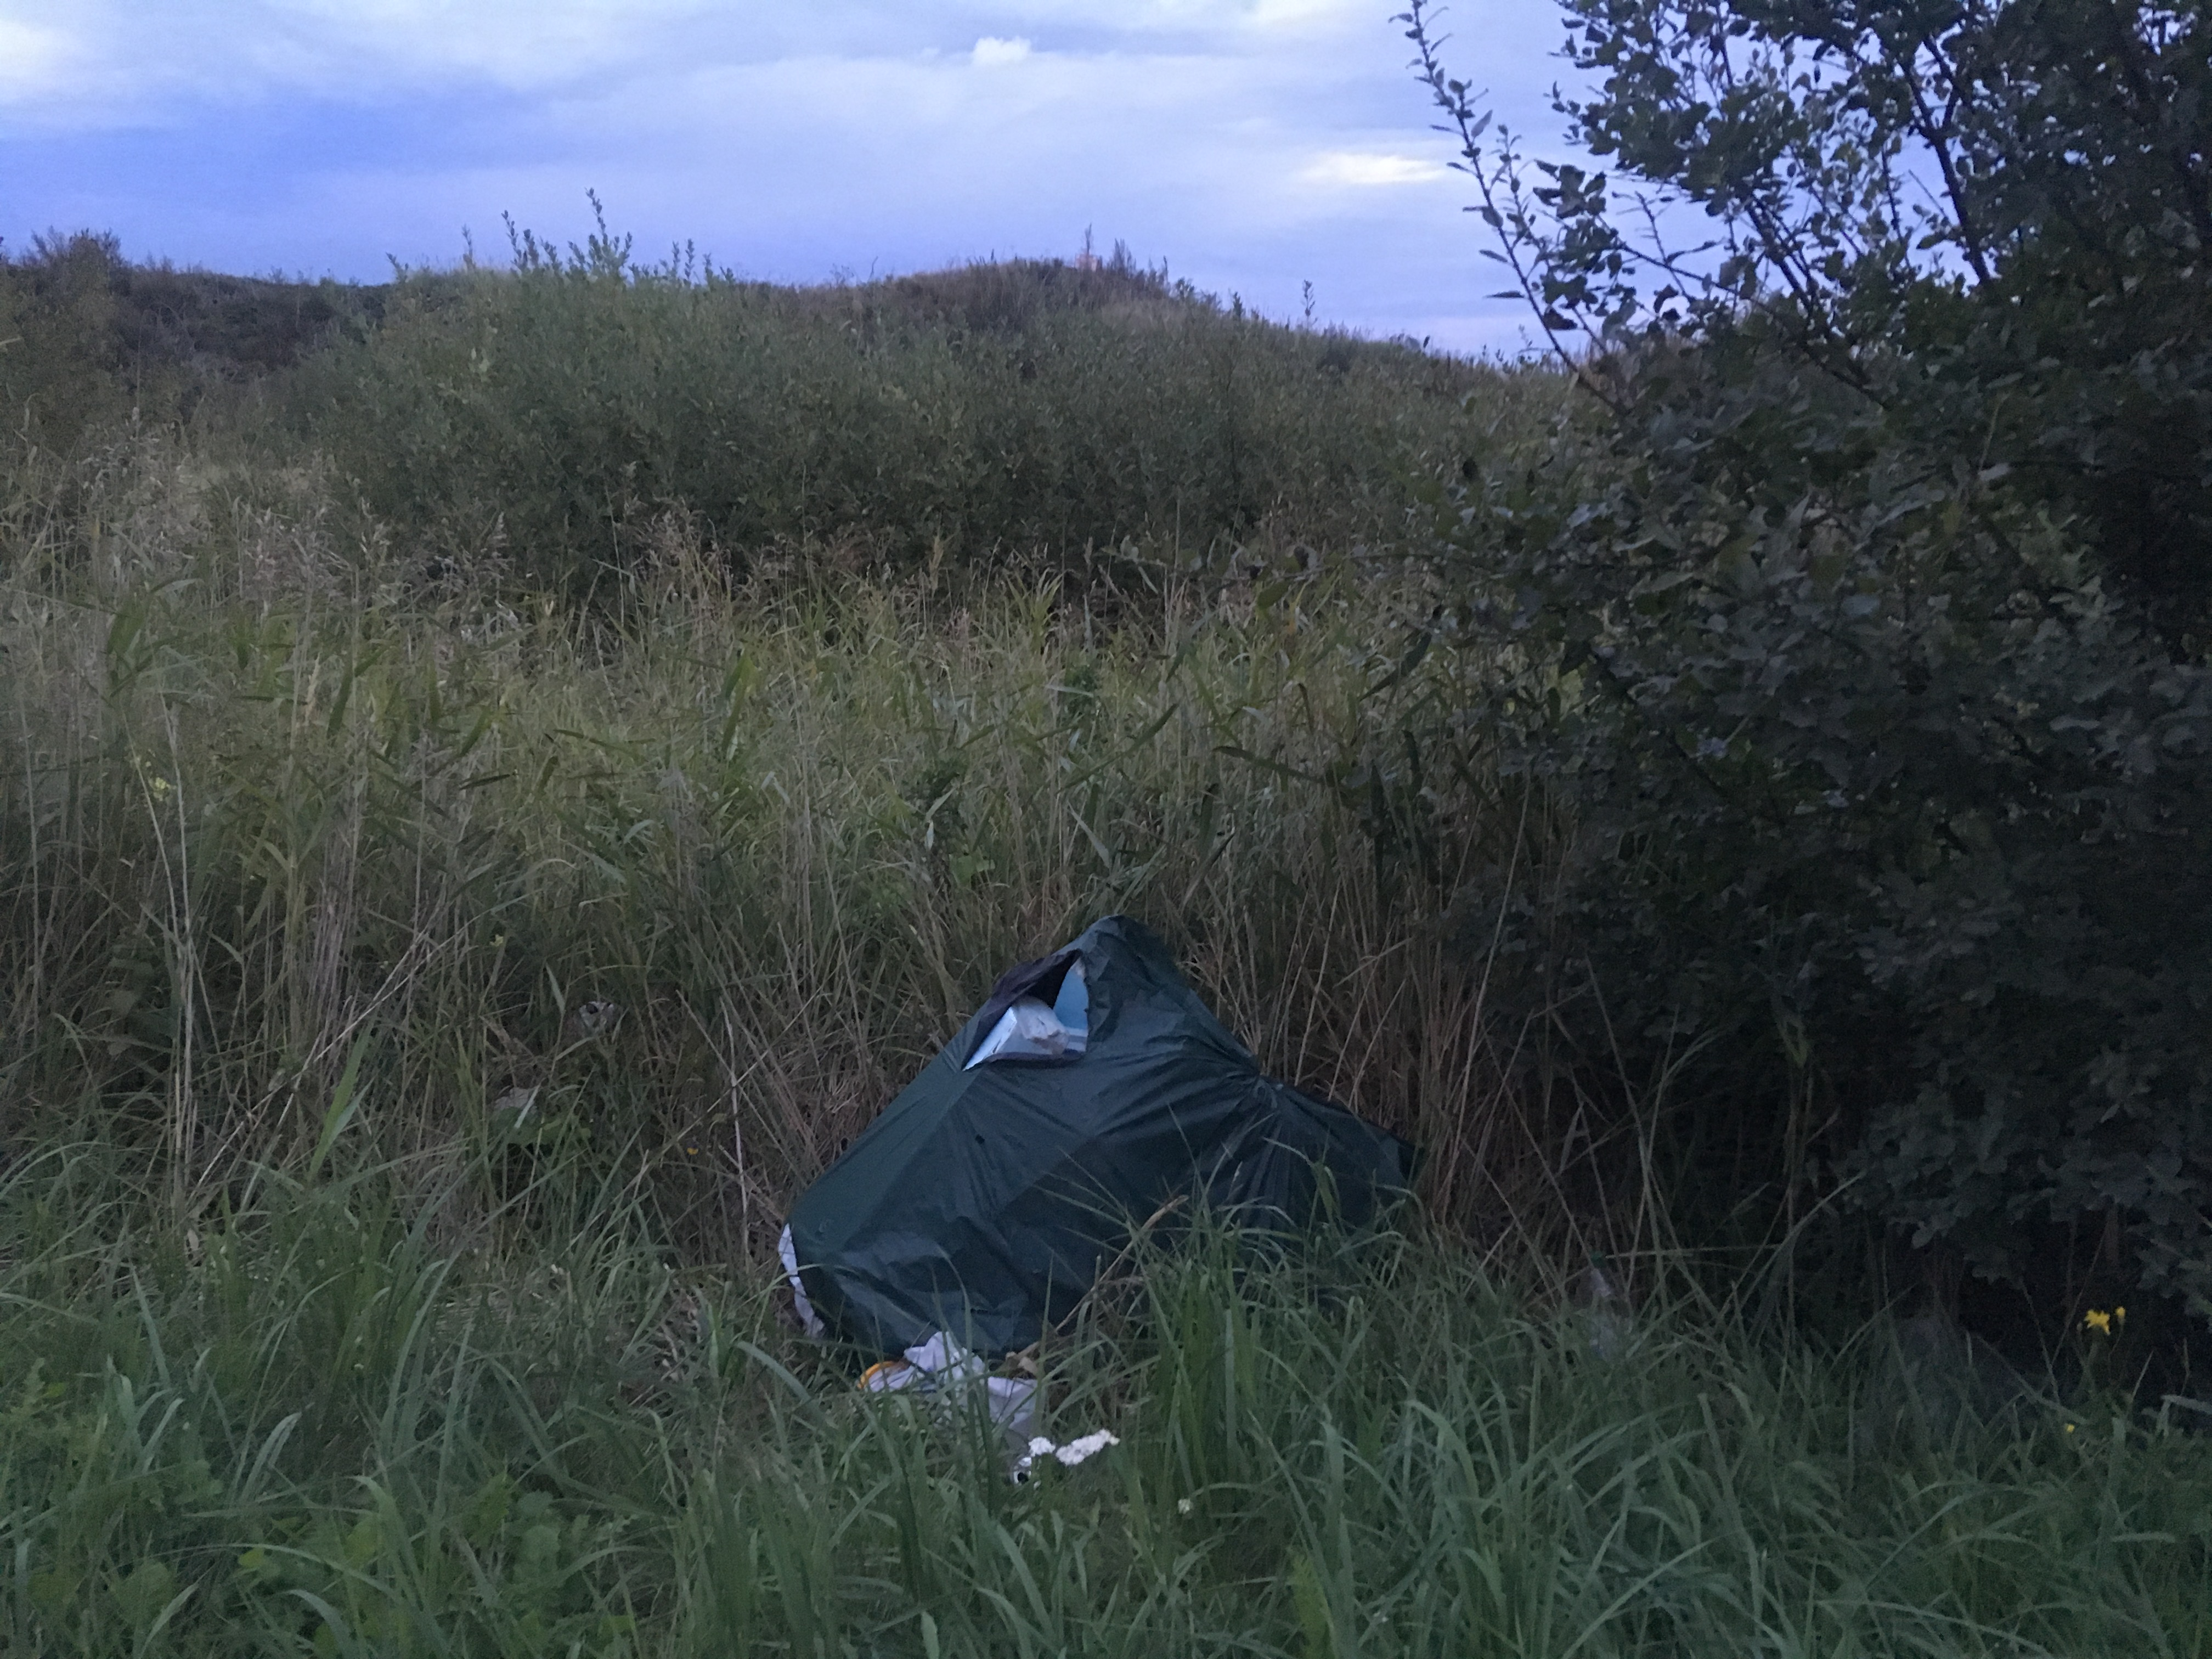trash: (695, 894, 1453, 1493)
